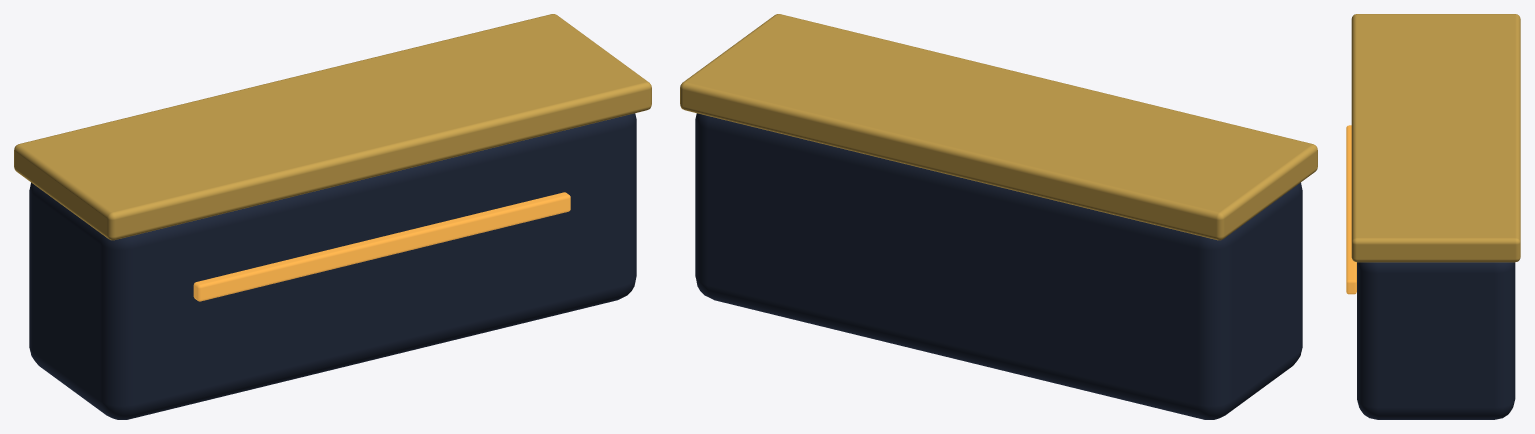
Rendered from wall_segment.glb.
3 views of the same model, side by side, from view 1: azimuth 30°, elevation 25°; view 2: azimuth 150°, elevation 25°; view 3: azimuth 270°, elevation 25° (orthographic). The views are drawn at different scales.
Parts seen in each view (by area): view 1: rig_body, rig_metal, rig_glow; view 2: rig_body, rig_metal; view 3: rig_metal, rig_body, rig_glow.
Part boxes in pixels (x1,y1,x2,y2): rig_body: [29, 113, 636, 419]; rig_metal: [14, 14, 651, 240]; rig_glow: [193, 192, 570, 301]; rig_body: [695, 113, 1302, 419]; rig_metal: [680, 14, 1317, 240]; rig_metal: [1351, 14, 1520, 262]; rig_body: [1357, 262, 1515, 419]; rig_glow: [1346, 125, 1356, 294].
Size of the model in its own units: 1.02 by 0.395 by 0.33.
